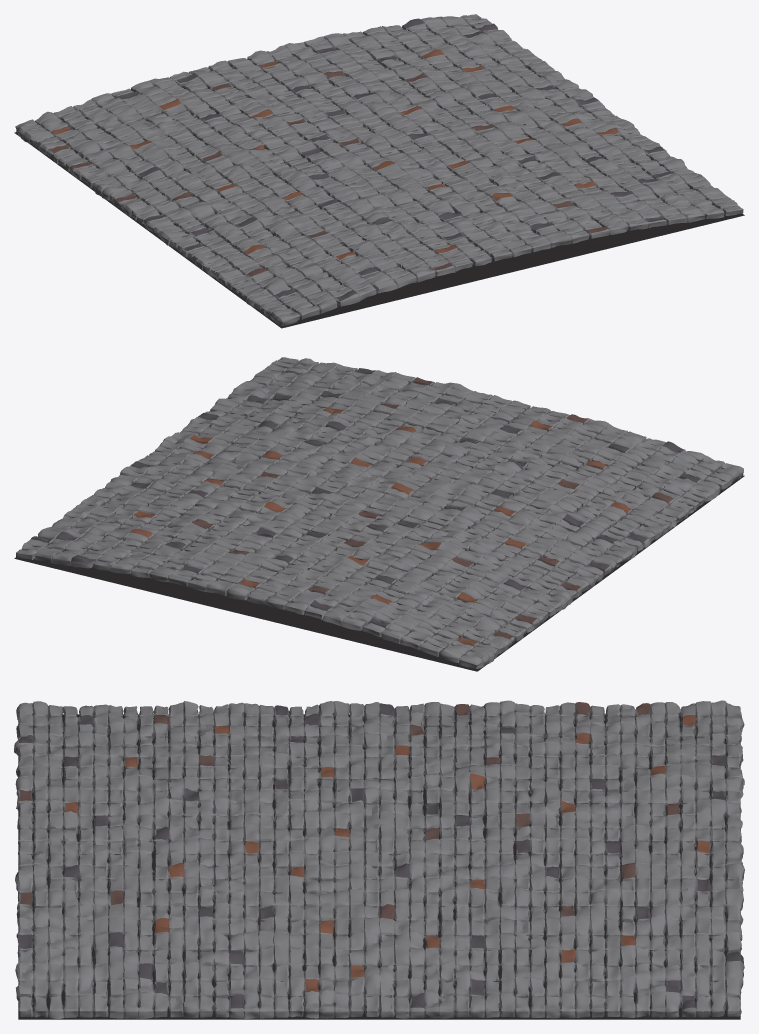
Rendered from SidewalkTest.fbx.
The picture shows the model from 3 angles, top to bottom: view 1: azimuth 30°, elevation 25°; view 2: azimuth 150°, elevation 25°; view 3: azimuth 270°, elevation 25°; orthographic projection. The views are drawn at different scales.
Visible parts, largest first — view 1: Plane; view 2: Plane; view 3: Plane.
Boxes of the visible parts, box(x1,y1,x2,y2) form: Plane: box(14, 14, 744, 328); Plane: box(14, 357, 744, 671); Plane: box(14, 700, 744, 1019).
Bounding box in the file's own units: 12.14 × 12.16 × 0.5912.
